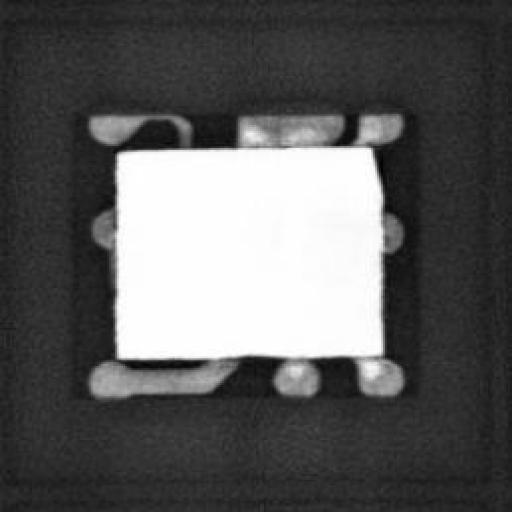DIE_BROKEN: (367, 136, 385, 184)
